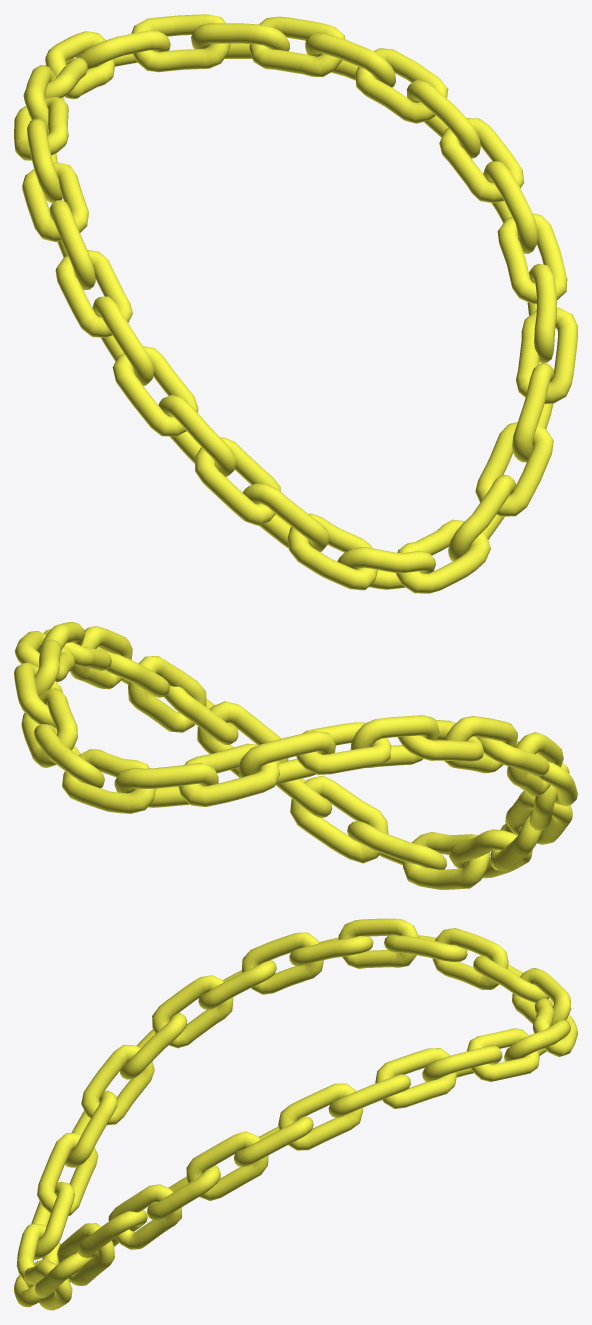
Rendered from Thickchain.gltf.
3 renders of one model, top to bottom at view 1: azimuth 30°, elevation 25°; view 2: azimuth 150°, elevation 25°; view 3: azimuth 270°, elevation 25°, orthographic. The views are drawn at different scales.
Visible parts, largest first — view 1: necklace5; view 2: necklace5; view 3: necklace5.
Part boxes in pixels (x1,y1,x2,y2): necklace5: [14, 14, 577, 593]; necklace5: [14, 622, 577, 889]; necklace5: [14, 918, 577, 1310].
Bounding box in the file's own units: 4.14 × 3.07 × 5.1.
